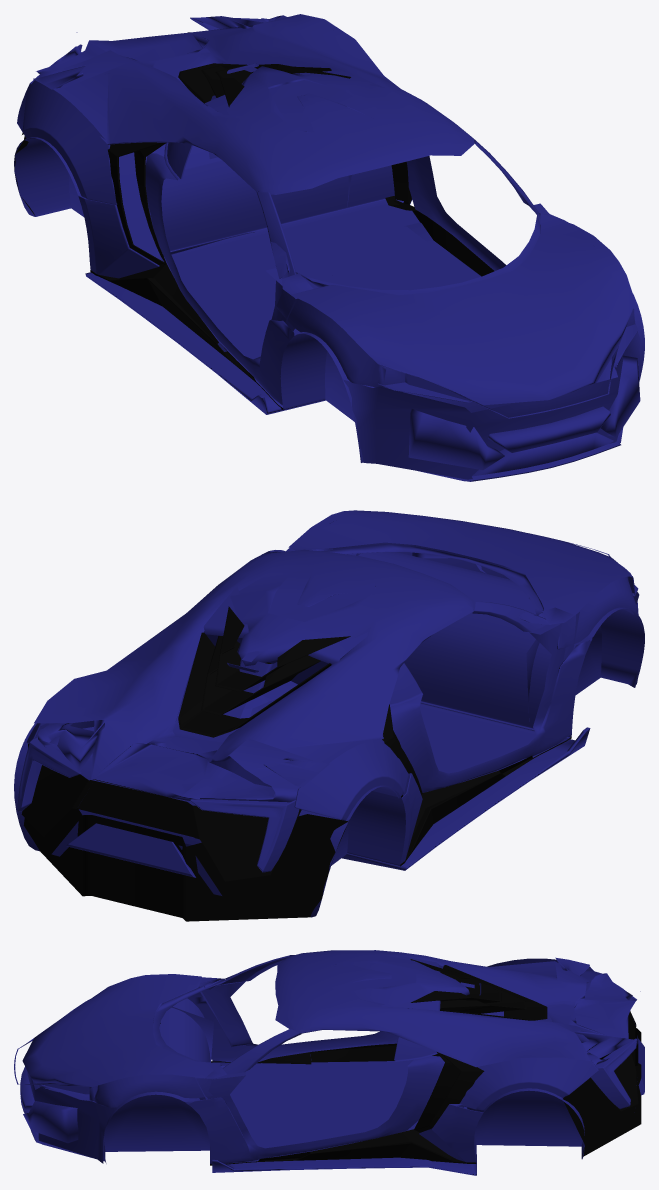
The model's file is LykanLod_base.fbx.
3 views of the same model, one above another, from view 1: azimuth 30°, elevation 25°; view 2: azimuth 150°, elevation 25°; view 3: azimuth 270°, elevation 25° (orthographic). The views are drawn at different scales.
Parts seen in each view (by area): view 1: Retopo_polySurface6; view 2: Retopo_polySurface6; view 3: Retopo_polySurface6.
Boxes of the visible parts, x1,y1,x2,y2 form: Retopo_polySurface6: (14, 14, 644, 481); Retopo_polySurface6: (14, 510, 644, 921); Retopo_polySurface6: (14, 950, 644, 1175).
Bounding box in the file's own units: 193 × 113 × 438.
